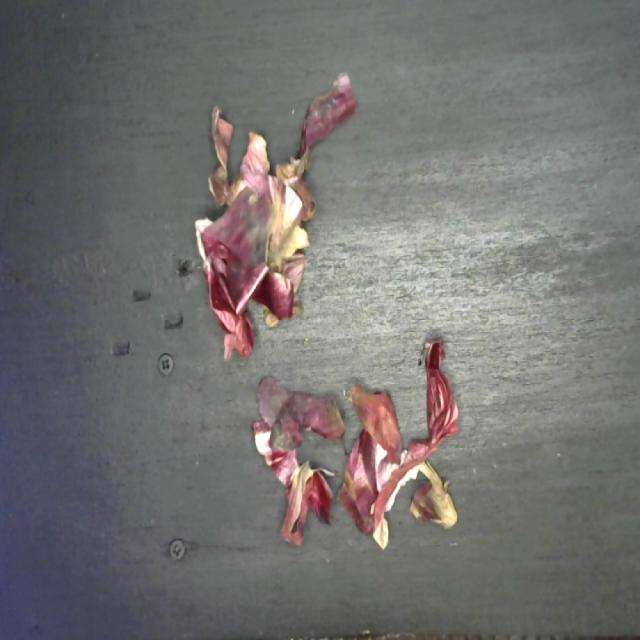biodegradable: (190, 67, 464, 559)
